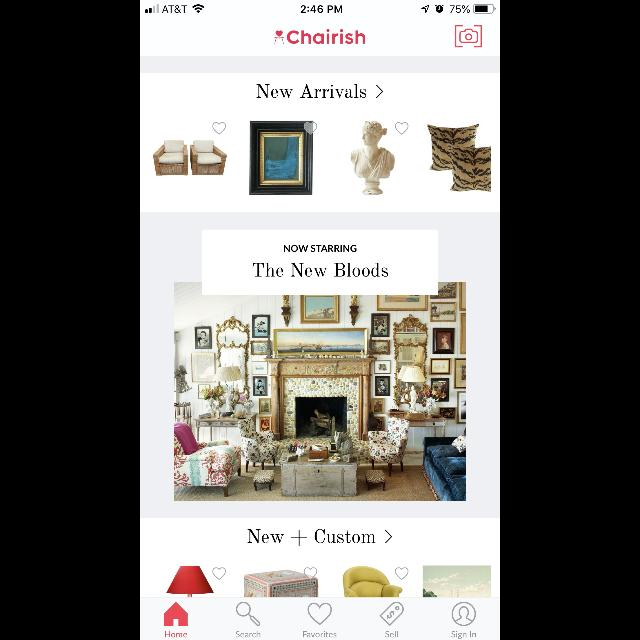icon: (454, 25, 482, 47), (164, 602, 188, 626), (236, 602, 260, 626), (380, 602, 404, 626), (452, 602, 476, 626), (308, 603, 332, 625), (212, 122, 225, 136), (304, 567, 318, 579), (396, 122, 408, 136), (304, 123, 318, 135), (212, 568, 225, 580), (396, 568, 408, 580), (376, 84, 384, 98), (384, 530, 392, 542)
image: (174, 283, 466, 502), (250, 121, 314, 195), (427, 124, 491, 192), (351, 121, 395, 195), (153, 140, 227, 176), (244, 570, 318, 598), (423, 566, 491, 596), (343, 566, 403, 596), (166, 566, 214, 596), (276, 31, 284, 44)
text: (248, 530, 376, 546), (254, 263, 388, 277), (257, 84, 367, 98), (287, 30, 365, 44), (284, 245, 356, 252), (236, 630, 260, 638), (304, 631, 336, 637), (452, 631, 476, 639), (165, 631, 187, 637), (386, 631, 398, 637)
uppertaskbar: (140, 0, 500, 14)
